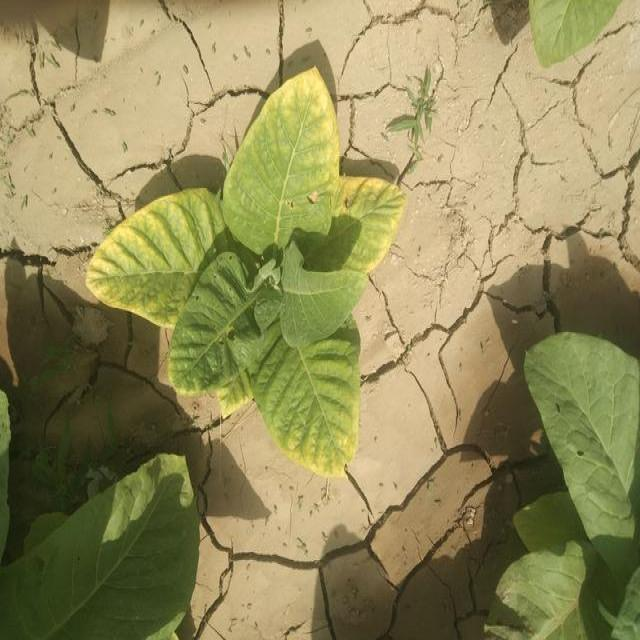crop: (81, 75, 402, 477), (0, 404, 206, 640), (502, 336, 640, 640), (519, 0, 625, 64)
